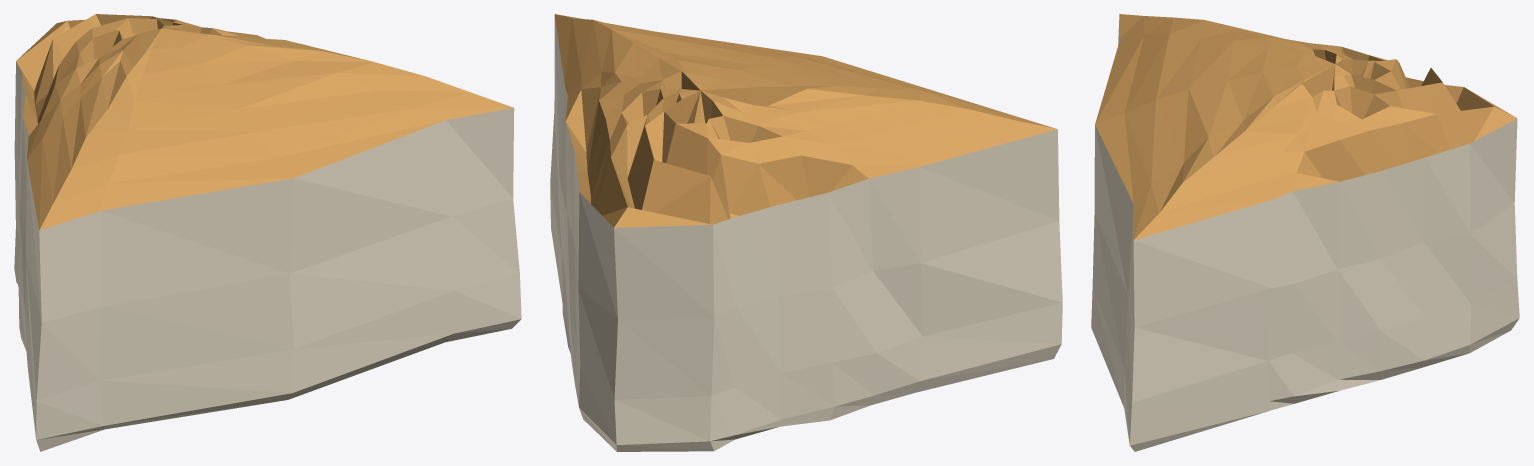
Rendered from scone.glb.
3 renders of one model, left to right at view 1: azimuth 30°, elevation 25°; view 2: azimuth 150°, elevation 25°; view 3: azimuth 270°, elevation 25°, orthographic. The views are drawn at different scales.
Bounding box in the file's own units: 1.92 × 1.07 × 1.51.
